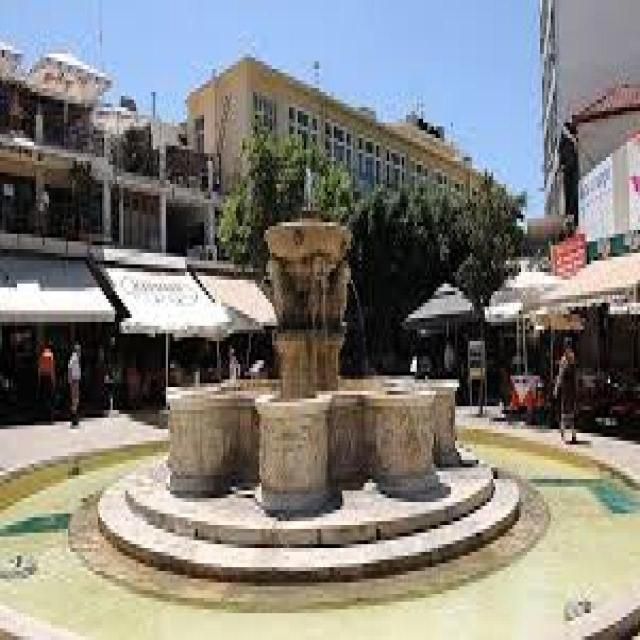Liontaria: (164, 214, 463, 520)
